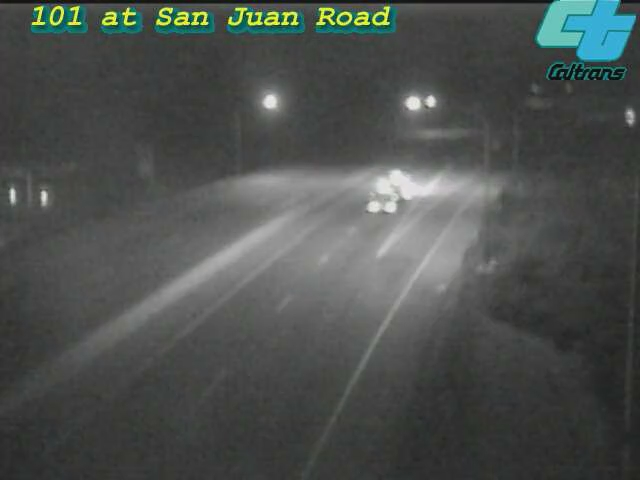vehicle: (349, 155, 429, 235)
